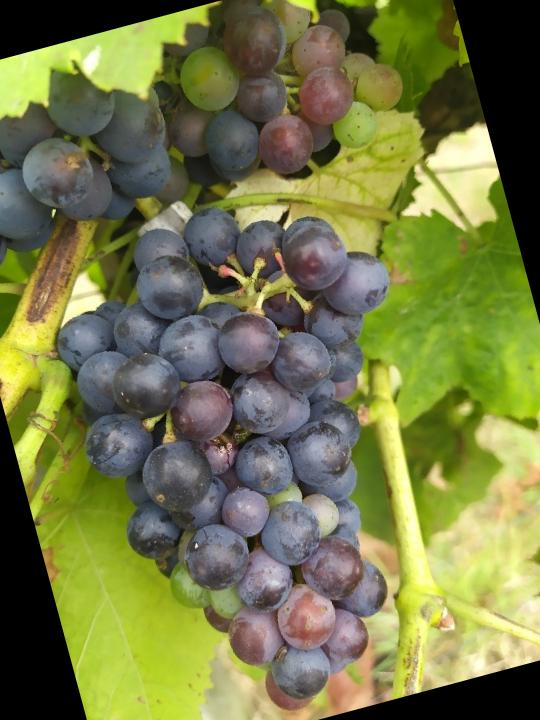grape: (35, 170, 496, 720)
